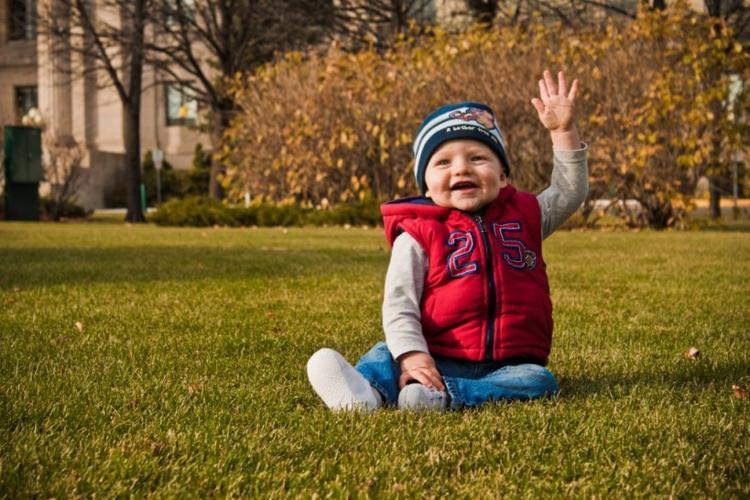person: (307, 70, 591, 412)
